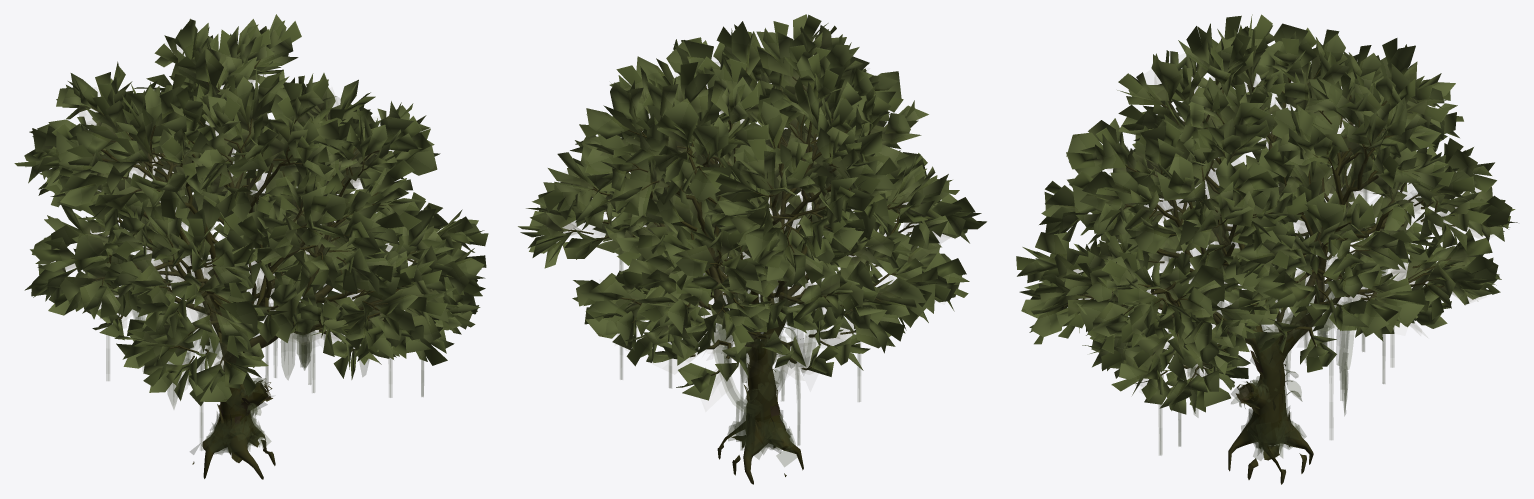
Rendered from tree_gn.glb.
The picture shows the model from 3 angles, left to right: view 1: azimuth 30°, elevation 25°; view 2: azimuth 150°, elevation 25°; view 3: azimuth 270°, elevation 25°; orthographic projection. The views are drawn at different scales.
Visible parts, largest first — view 1: TreeGen_ClusterB_0, TreeGen_BarkB_0, TreeGen_ClusterB2_0, TreeGen_VinesB_0; view 2: TreeGen_ClusterB_0, TreeGen_BarkB_0, TreeGen_ClusterB2_0, TreeGen_VinesB_0; view 3: TreeGen_ClusterB_0, TreeGen_BarkB_0, TreeGen_ClusterB2_0, TreeGen_VinesB_0.
Boxes of the visible parts, <box> form: TreeGen_ClusterB_0: <box>14,14,488,406</box>; TreeGen_BarkB_0: <box>70,49,444,479</box>; TreeGen_ClusterB2_0: <box>35,46,436,387</box>; TreeGen_VinesB_0: <box>98,151,423,461</box>; TreeGen_ClusterB_0: <box>518,14,986,400</box>; TreeGen_BarkB_0: <box>567,68,916,484</box>; TreeGen_ClusterB2_0: <box>543,34,953,388</box>; TreeGen_VinesB_0: <box>619,123,882,466</box>; TreeGen_ClusterB_0: <box>1016,14,1517,414</box>; TreeGen_BarkB_0: <box>1062,69,1457,484</box>; TreeGen_ClusterB2_0: <box>1055,55,1486,386</box>; TreeGen_VinesB_0: <box>1143,128,1396,460</box>.
Bounding box in the file's own units: 21.12 × 22.48 × 24.06.
6 materials, 6 textured.
